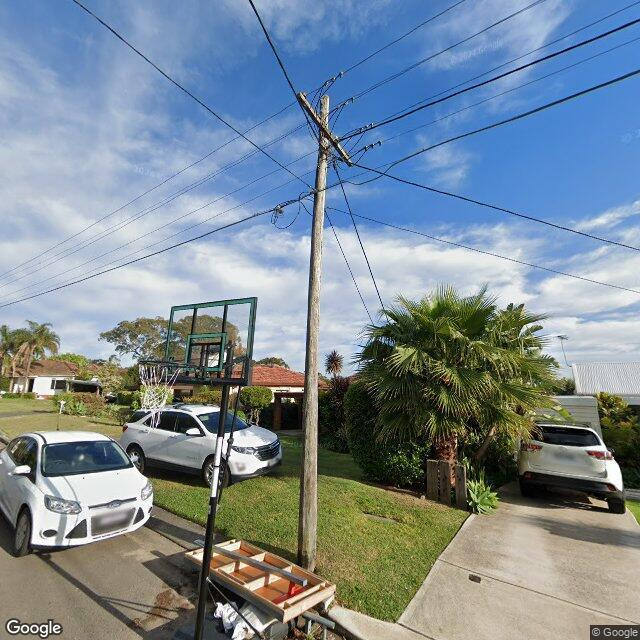crossarm: (295, 90, 352, 169)
timber-pole: (298, 95, 330, 572)
